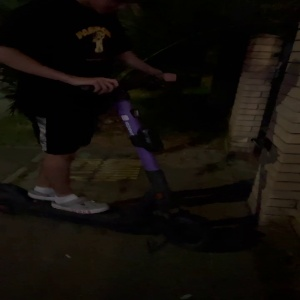human on a scooter: (1, 1, 215, 254)
